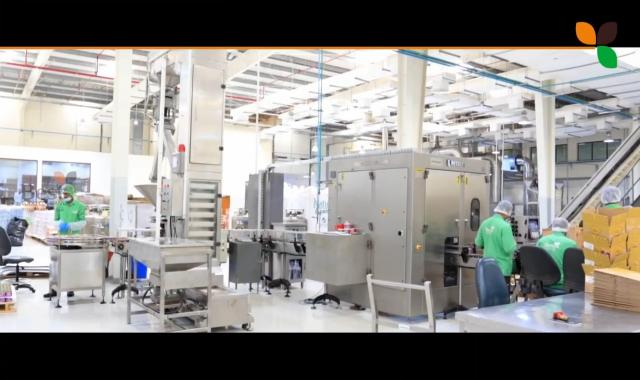hairnet: (599, 186, 621, 205), (550, 214, 569, 233), (497, 200, 512, 220), (59, 183, 74, 197)
